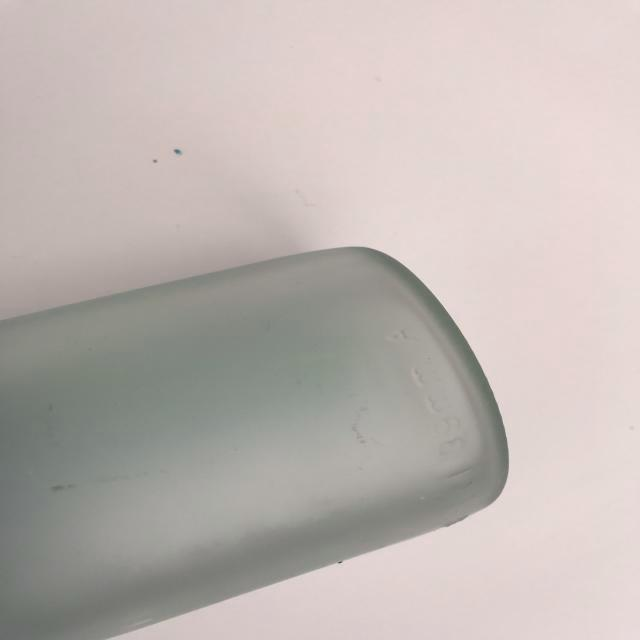glass: (0, 216, 529, 640)
